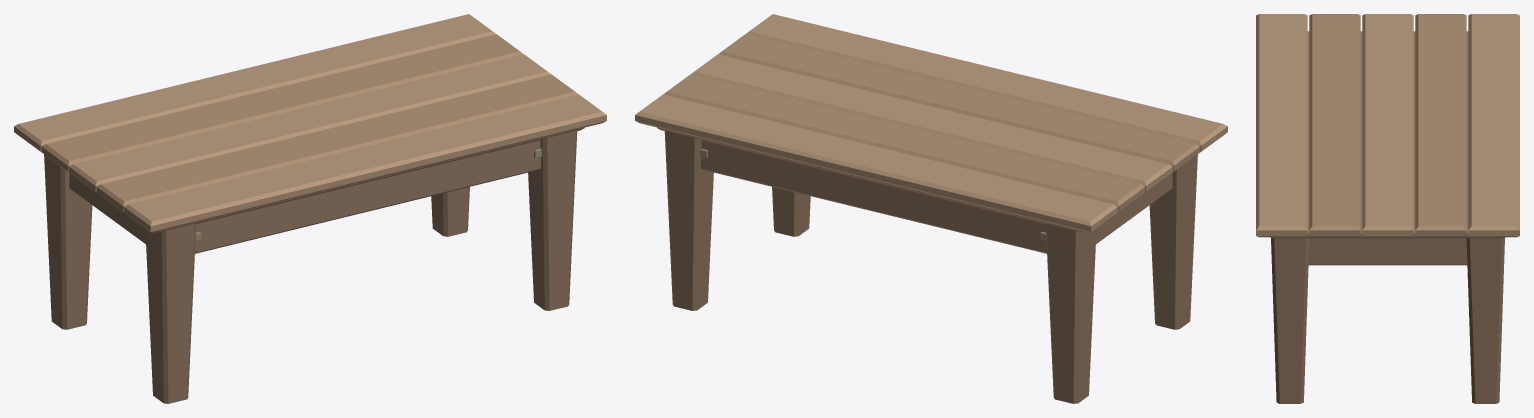
The model's file is Table001.glb.
The picture shows the model from 3 angles, left to right: view 1: azimuth 30°, elevation 25°; view 2: azimuth 150°, elevation 25°; view 3: azimuth 270°, elevation 25°; orthographic projection. The views are drawn at different scales.
Visible parts, largest first — view 1: Table001Artwork; view 2: Table001Artwork; view 3: Table001Artwork.
Part boxes in pixels (x1=…): Table001Artwork: x1=14, y1=14, x2=606, y2=403; Table001Artwork: x1=635, y1=14, x2=1227, y2=403; Table001Artwork: x1=1256, y1=14, x2=1519, y2=403.
Size of the model in its own units: 1.82 by 0.744 by 0.944.
